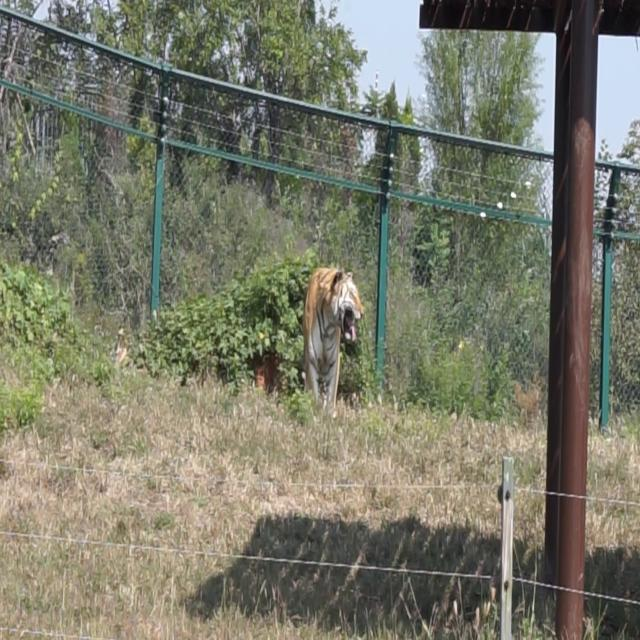Tiger: (294, 249, 363, 427)
